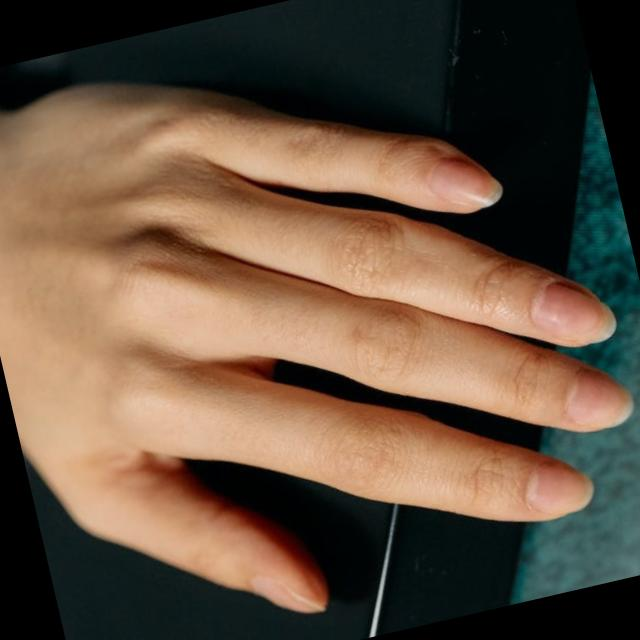Nail: (531, 282, 616, 344), (566, 366, 633, 428), (427, 154, 501, 209), (526, 459, 593, 513), (248, 572, 327, 612)
